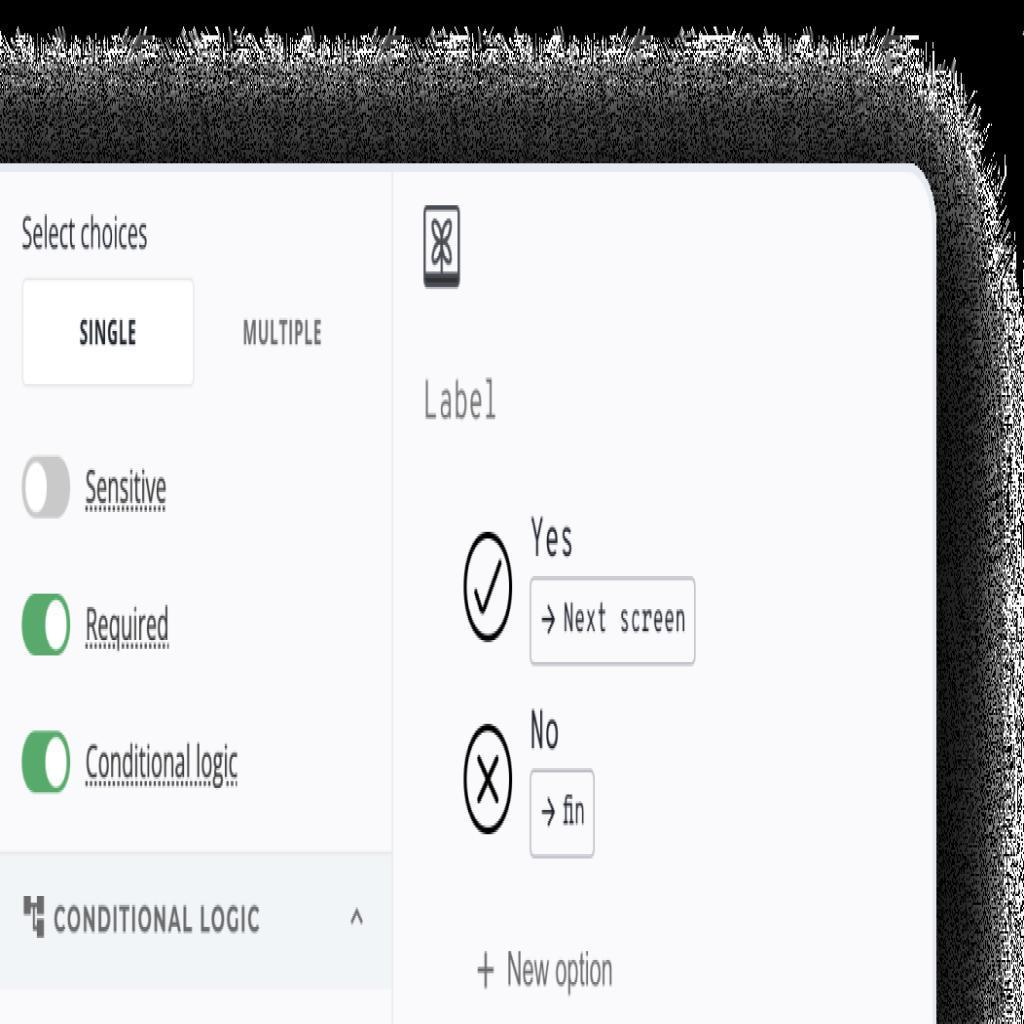button: (22, 278, 196, 387)
checkbox: (461, 723, 514, 836), (462, 532, 516, 642)
dropdown: (1, 851, 392, 987)
icon: (474, 946, 501, 995)
switch: (21, 724, 73, 798), (21, 453, 75, 518), (20, 595, 75, 655)
